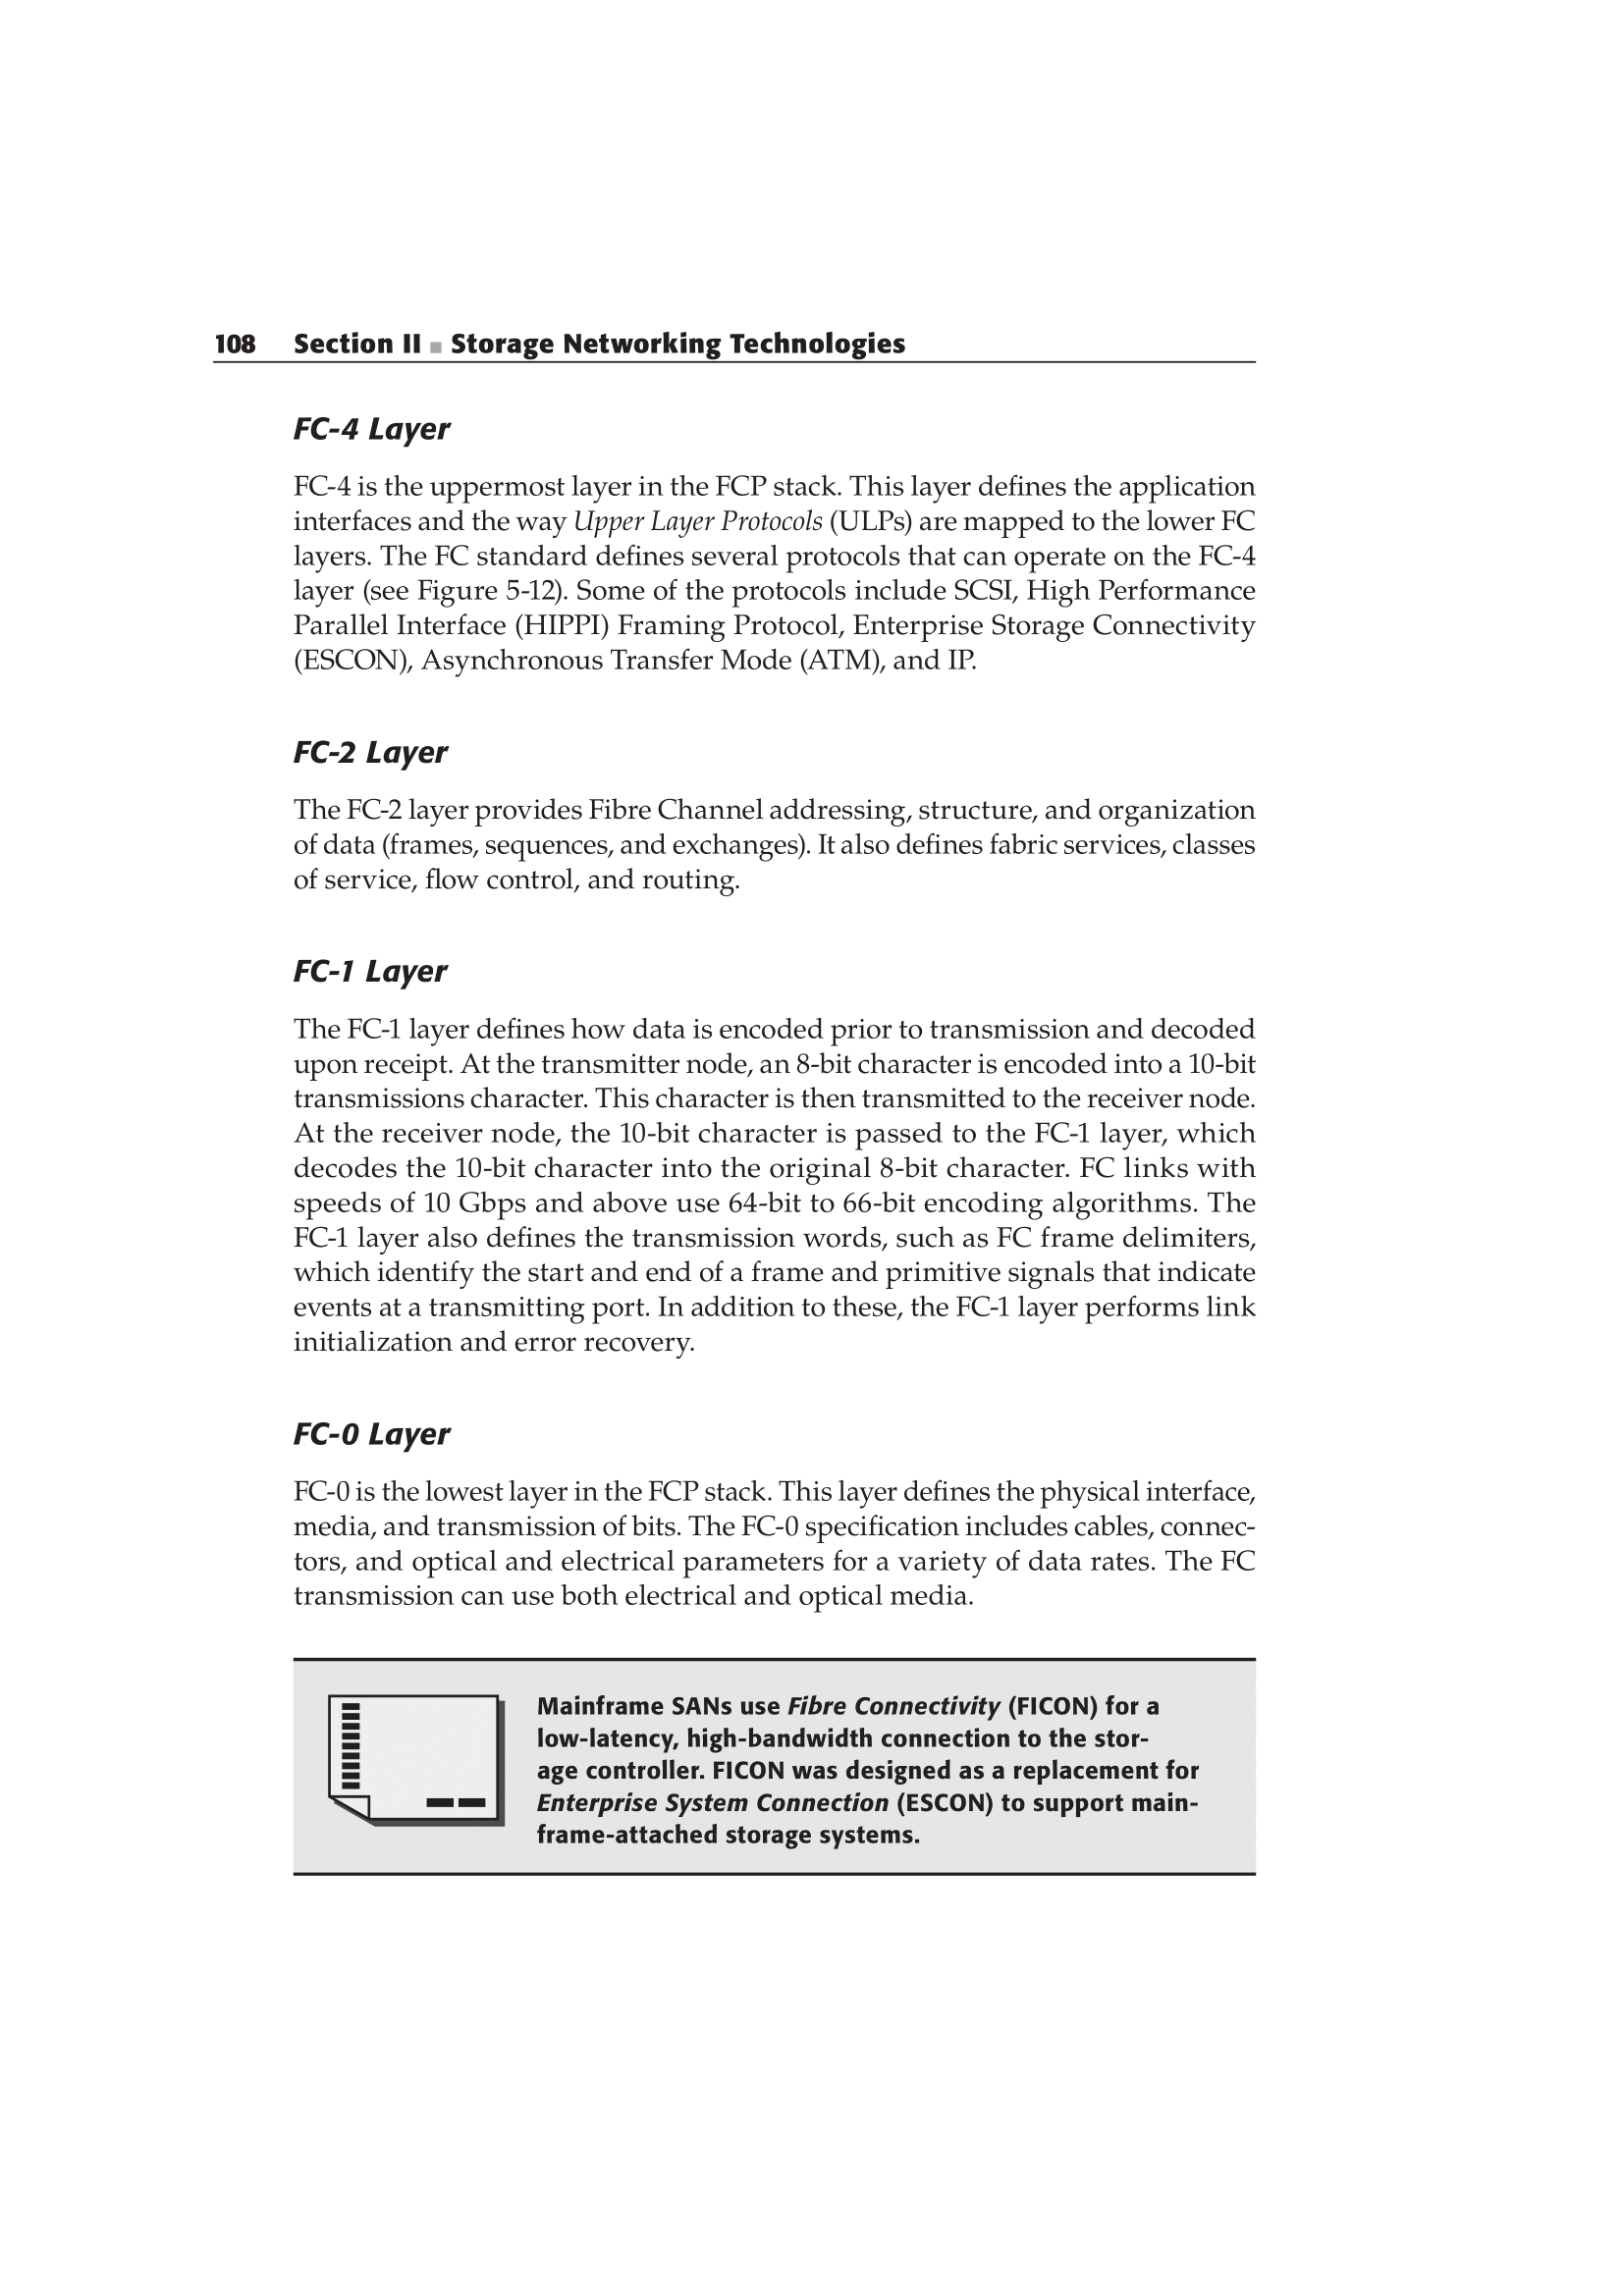Image: (283, 1662, 529, 1864)
Paragraph: (163, 1008, 1433, 1366), (225, 458, 1317, 695), (198, 1464, 1333, 1632), (537, 1662, 1242, 1864), (225, 783, 1314, 904), (26, 321, 1143, 379), (190, 393, 583, 444), (235, 718, 560, 779), (176, 1411, 518, 1453), (241, 953, 522, 995)
